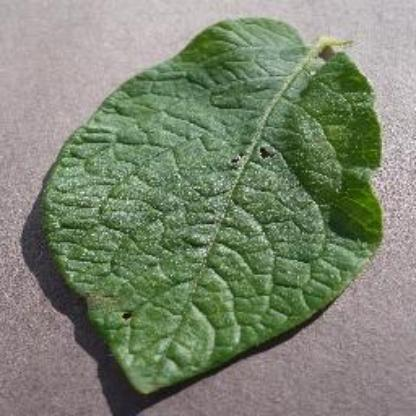Healthy-plant: (34, 15, 400, 399)
